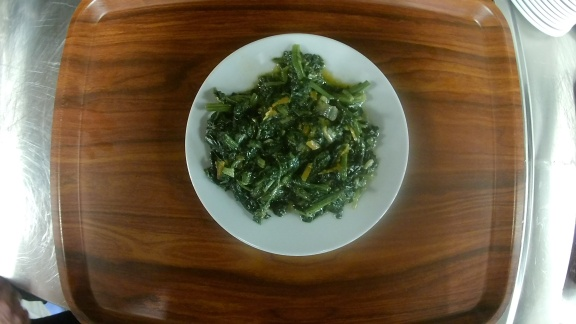ispanak: (182, 30, 411, 258)
